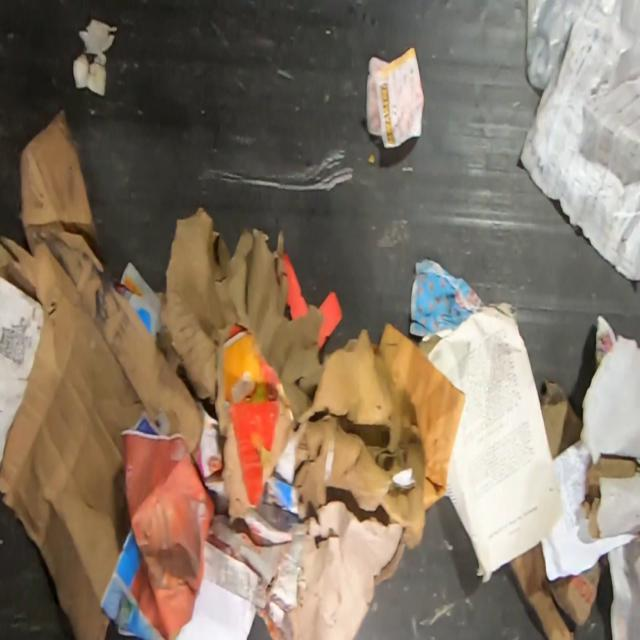cardboard: (156, 207, 469, 640), (0, 104, 203, 639), (508, 538, 602, 640), (576, 452, 640, 546), (540, 383, 584, 462)
soft_plastic: (525, 0, 639, 90)
